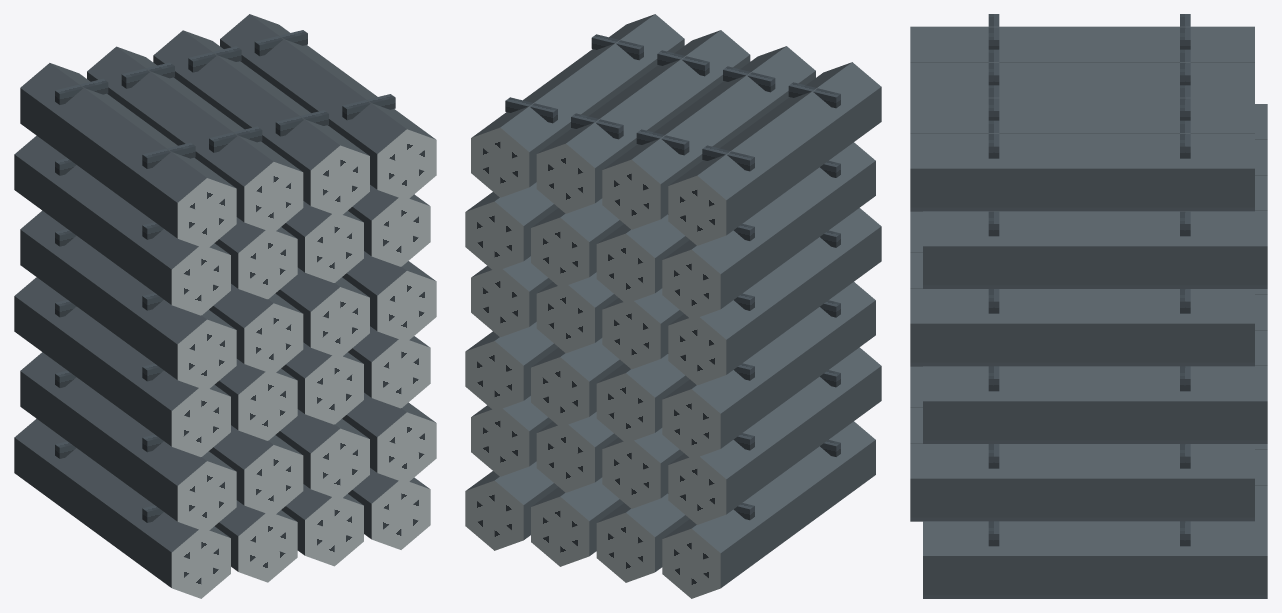
The model's file is f_rebar_stack_mid.glb.
3 views of the same model, side by side, from view 1: azimuth 30°, elevation 25°; view 2: azimuth 150°, elevation 25°; view 3: azimuth 270°, elevation 25° (orthographic). The views are drawn at different scales.
Visible parts, largest first — view 1: block_bundle-5--0.33, block_bundle-1--0.33, block_bundle-3--0.33, block_bundle-4--0.33, block_bundle-2--0.33, block_bundle-0--0.33, block_bundle-5--0.11, block_bundle-5-0.11, block_bundle-5-0.33, block_bundle-3--0.11, block_bundle-1--0.11, block_bundle-3-0.33 (+20 smaller); view 2: block_bundle-5--0.33, block_bundle-2--0.33, block_bundle-4--0.33, block_bundle-0--0.33, block_bundle-1--0.33, block_bundle-3--0.33, block_bundle-5-0.11, block_bundle-5--0.11, block_bundle-5-0.33, block_bundle-0--0.11, block_bundle-4--0.11, block_bundle-2--0.11 (+20 smaller); view 3: block_bundle-5-0.33, block_bundle-1-0.33, block_bundle-3-0.33, block_bundle-4-0.33, block_bundle-0-0.33, block_bundle-2-0.33, block_bundle-5--0.33, block_bundle-5-0.11, block_bundle-5--0.11, block_bundle-0--0.11, block_bundle-1-0.11, block_bundle-2--0.11 (+2 smaller).
Part boxes in pixels (x1,y1,x2,y2): block_bundle-5--0.33: (20,63,236,248); block_bundle-1--0.33: (20,352,236,532); block_bundle-3--0.33: (20,210,236,390); block_bundle-4--0.33: (14,135,230,315); block_bundle-2--0.33: (14,277,230,456); block_bundle-0--0.33: (14,418,230,598); block_bundle-5--0.11: (87,46,303,232); block_bundle-5-0.11: (153,30,369,216); block_bundle-5-0.33: (220,14,436,200); block_bundle-3--0.11: (209,284,303,374); block_bundle-1--0.11: (209,425,303,515); block_bundle-3-0.33: (342,251,436,341); block_bundle-5--0.33: (668,62,881,245); block_bundle-2--0.33: (662,282,875,459); block_bundle-4--0.33: (662,142,875,319); block_bundle-0--0.33: (662,421,875,598); block_bundle-1--0.33: (668,347,881,524); block_bundle-3--0.33: (668,208,881,384); block_bundle-5-0.11: (536,30,750,213); block_bundle-5--0.11: (602,46,815,229); block_bundle-5-0.33: (471,14,684,197); block_bundle-0--0.11: (596,493,689,582); block_bundle-4--0.11: (596,214,689,303); block_bundle-2--0.11: (596,354,689,443); block_bundle-5-0.33: (910,133,1254,211); block_bundle-1-0.33: (910,443,1254,521); block_bundle-3-0.33: (910,288,1254,366); block_bundle-4-0.33: (923,211,1267,288); block_bundle-0-0.33: (923,520,1267,598); block_bundle-2-0.33: (923,366,1267,443); block_bundle-5--0.33: (910,26,1254,62); block_bundle-5-0.11: (910,97,1254,133); block_bundle-5--0.11: (910,62,1254,97); block_bundle-0--0.11: (1255,449,1267,485); block_bundle-1-0.11: (910,407,922,443); block_bundle-2--0.11: (1255,294,1267,330).
Bounding box in the file's own units: 0.8551 × 1.34 × 0.933.
1 material, 1 textured.
